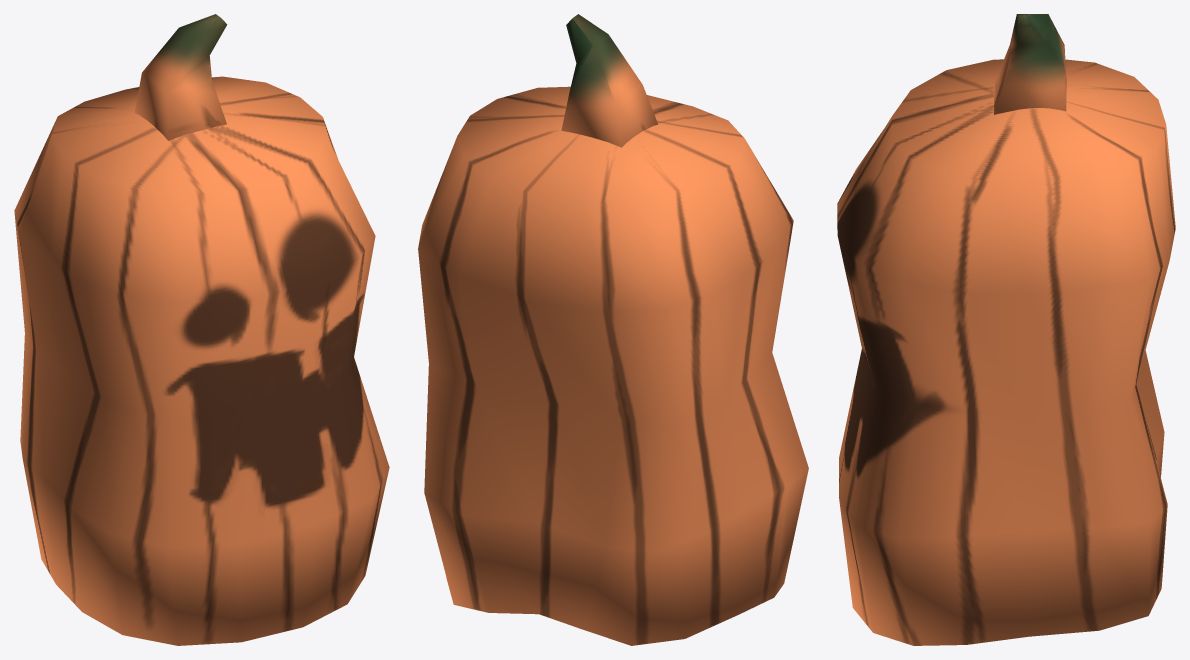
Rendered from pumpkin 2.fbx.
The picture shows the model from 3 angles, left to right: view 1: azimuth 30°, elevation 25°; view 2: azimuth 150°, elevation 25°; view 3: azimuth 270°, elevation 25°; orthographic projection. The views are drawn at different scales.
Visible parts, largest first — view 1: Cube.006; view 2: Cube.006; view 3: Cube.006.
Part boxes in pixels (bbox=[...]): Cube.006: bbox=[14, 14, 389, 645]; Cube.006: bbox=[418, 14, 808, 645]; Cube.006: bbox=[837, 14, 1175, 645].
Bounding box in the file's own units: 63.53 × 117 × 59.03.
